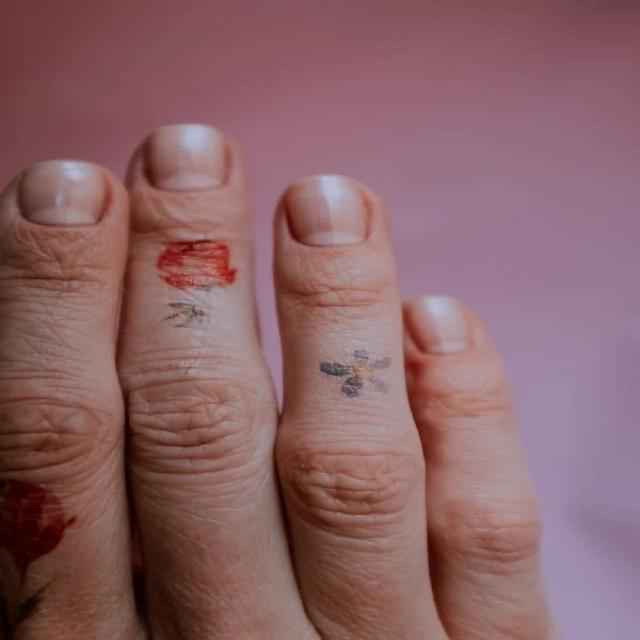Nail: (283, 174, 367, 246), (18, 160, 106, 226), (148, 124, 224, 190), (405, 295, 471, 354)
